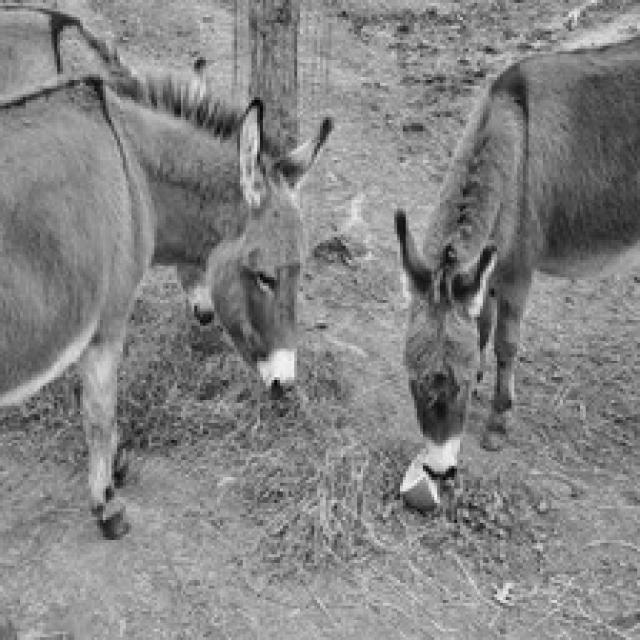Donkey: (0, 6, 334, 543), (392, 20, 637, 483), (0, 0, 214, 325)
